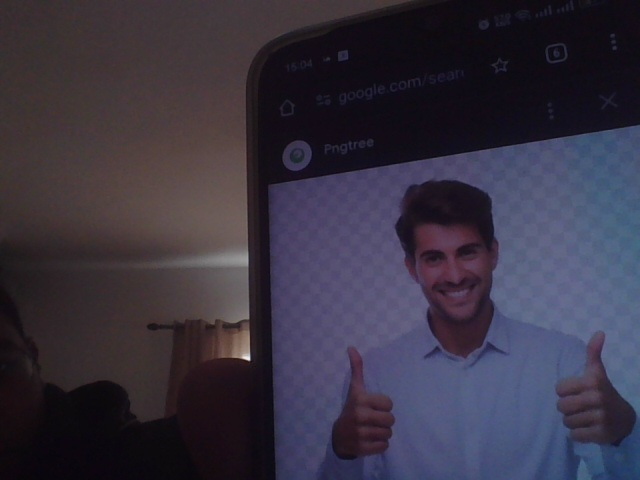fake: (386, 158, 508, 331)
